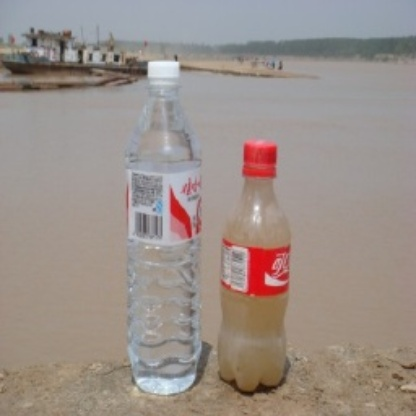bottle: (122, 60, 205, 398), (219, 135, 293, 394)
